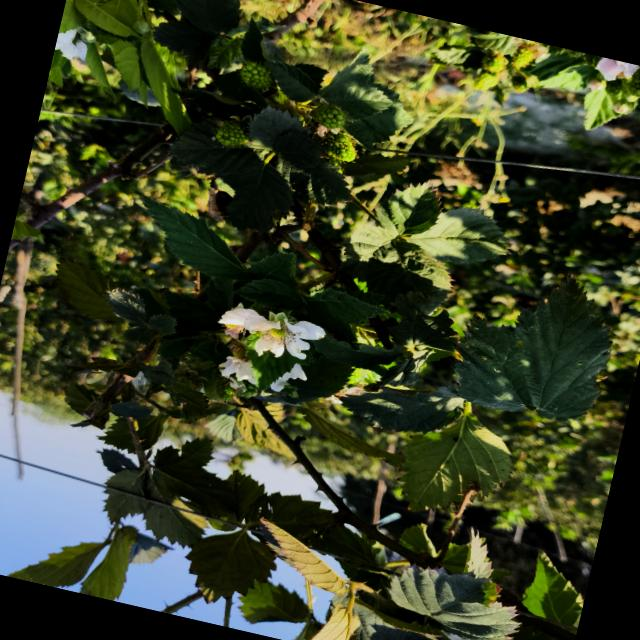flor: (218, 306, 325, 359), (218, 356, 256, 384), (270, 363, 306, 391)
verde: (320, 131, 357, 167), (238, 61, 272, 89), (215, 120, 248, 147), (311, 103, 345, 128)
